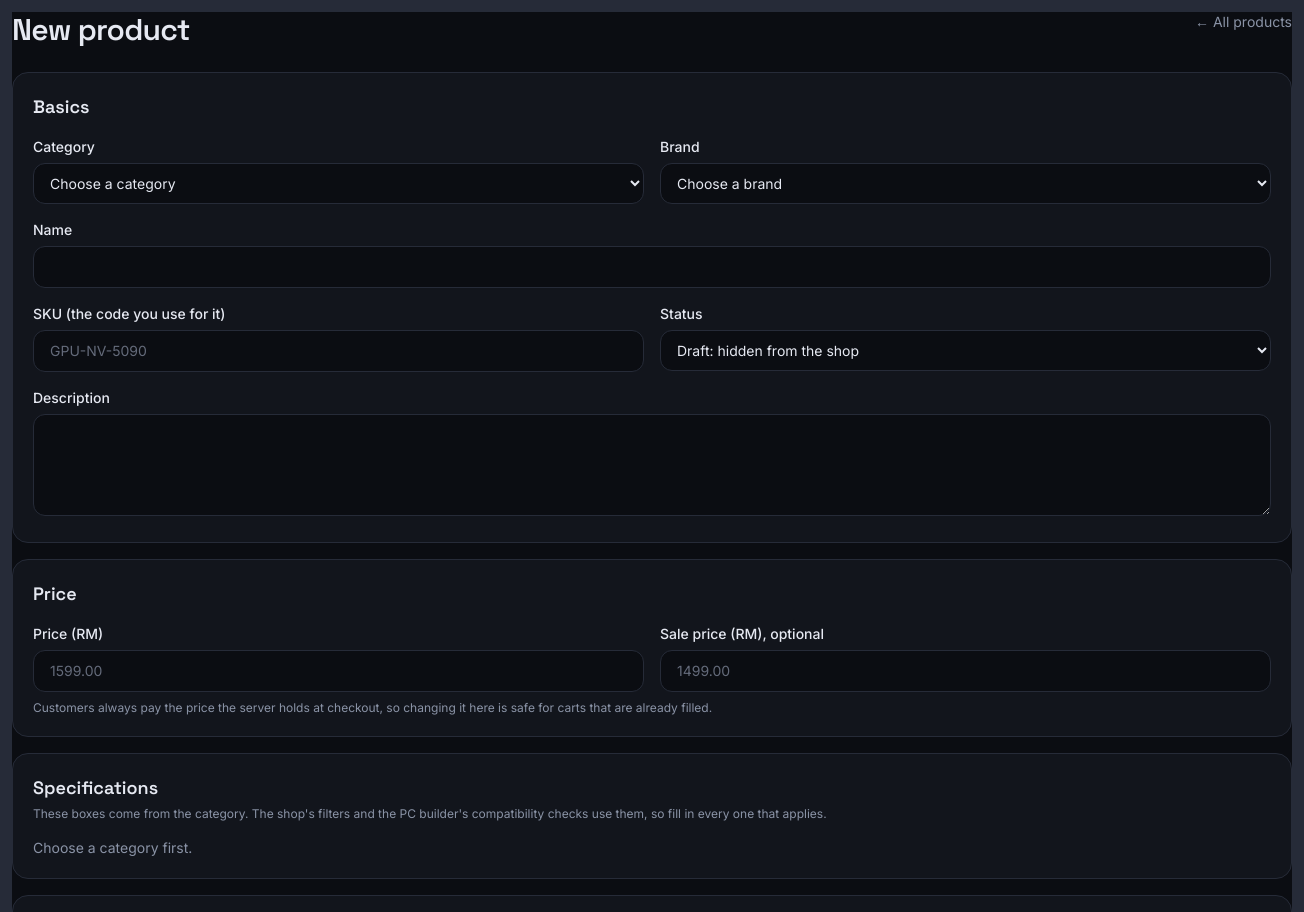
Test: creating a product › keeps what was typed for specs both categories share when the category changes
Select "Processors" in the dropdown labelled "Category" at (338, 184), box [33,163,644,204]
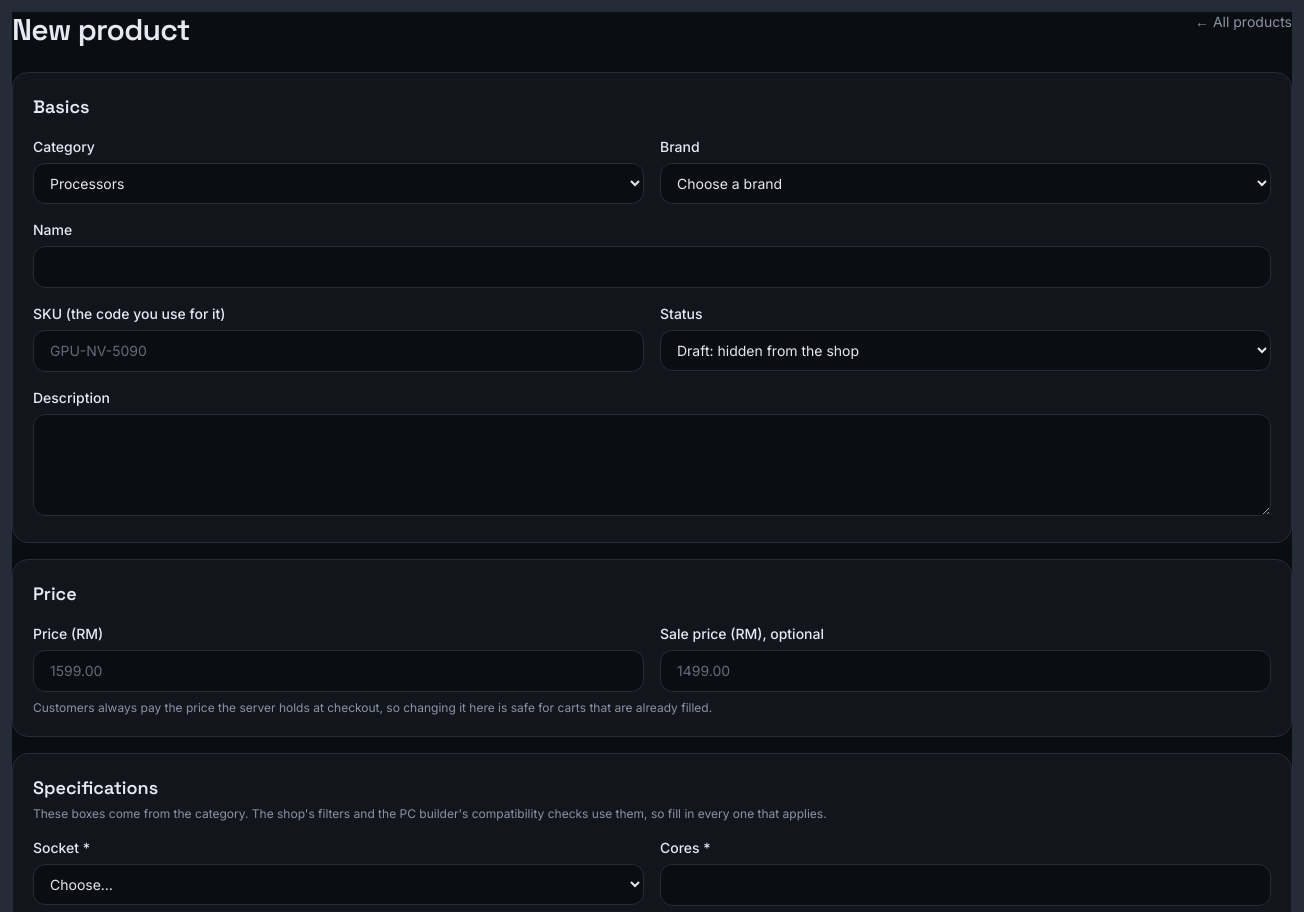
Type "8" into the field labelled "Cores *" at (966, 885), box [660,864,1271,906]
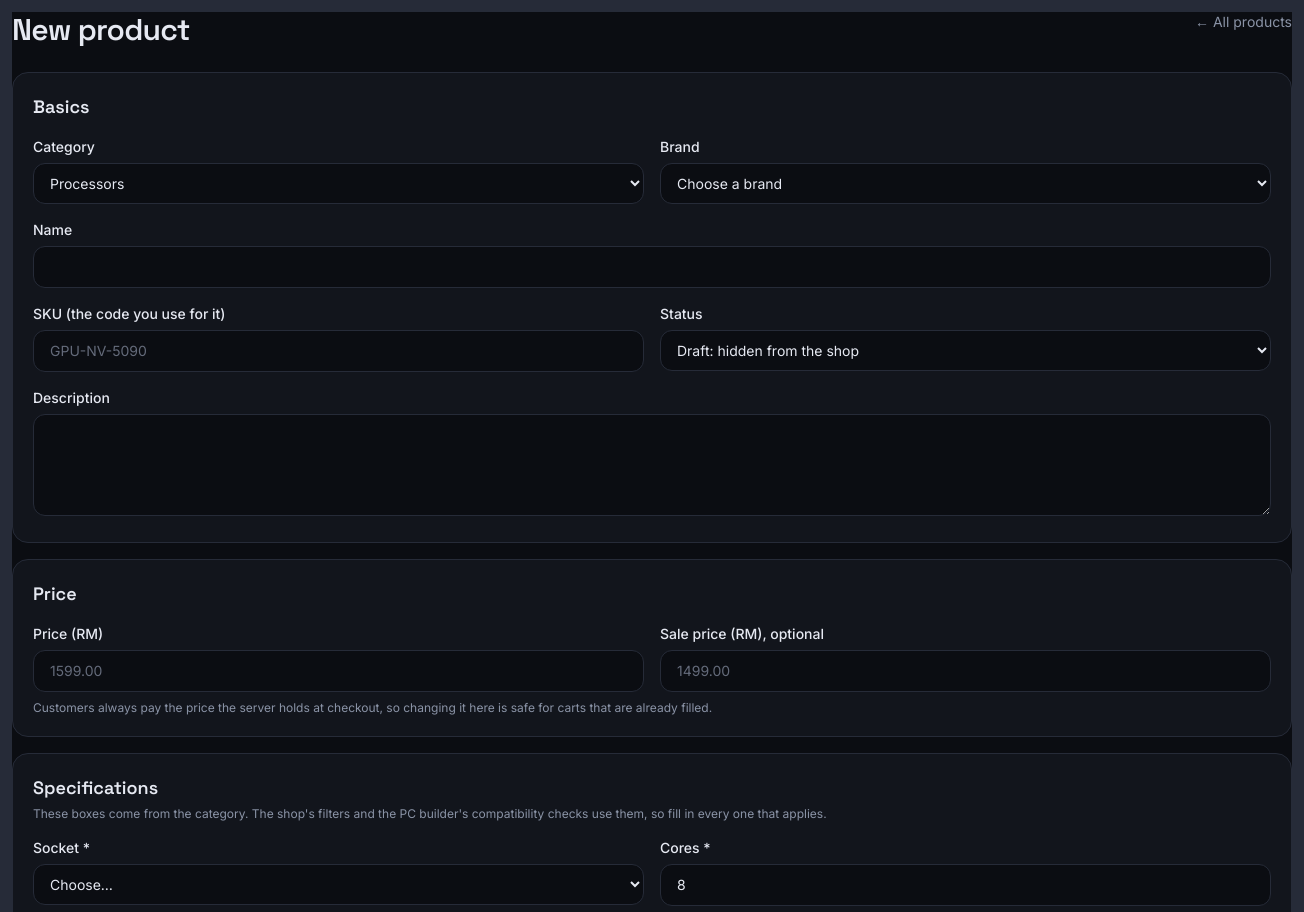
Select "Memory" in the dropdown labelled "Category" at (338, 184), box [33,163,644,204]
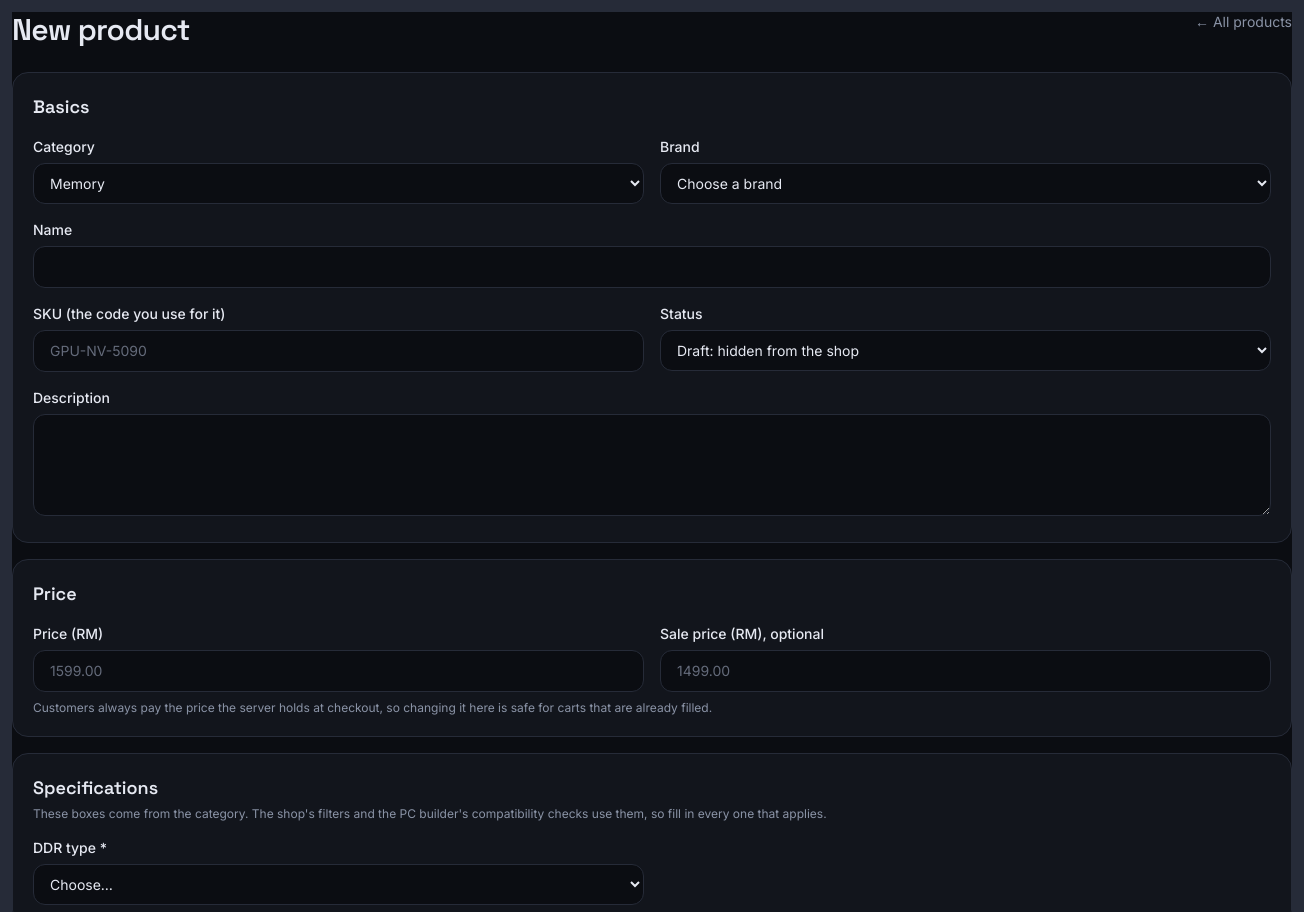
Expected: the element with test id "spec-fields" shows "DDR type", [33,839,107,856]
Expected: the label with test id "spec-fields" no longer shows "Cores"
